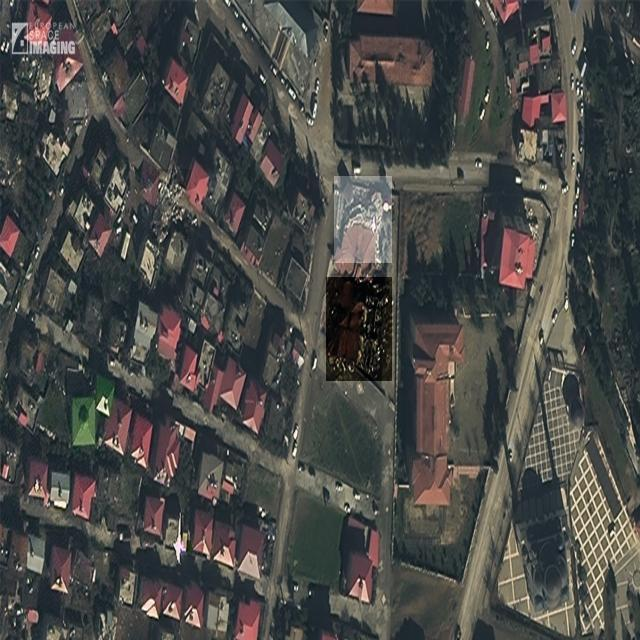Rubble: (326, 277, 392, 381), (334, 176, 392, 263), (152, 169, 191, 239)
